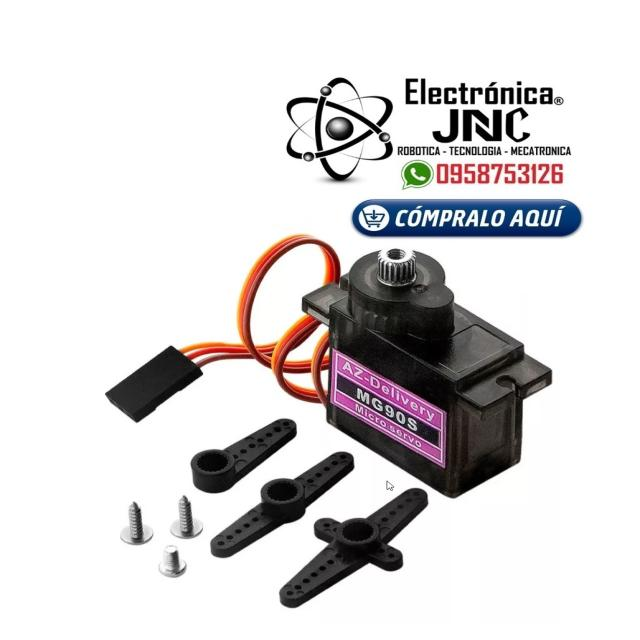servomotor: (230, 236, 587, 502)
